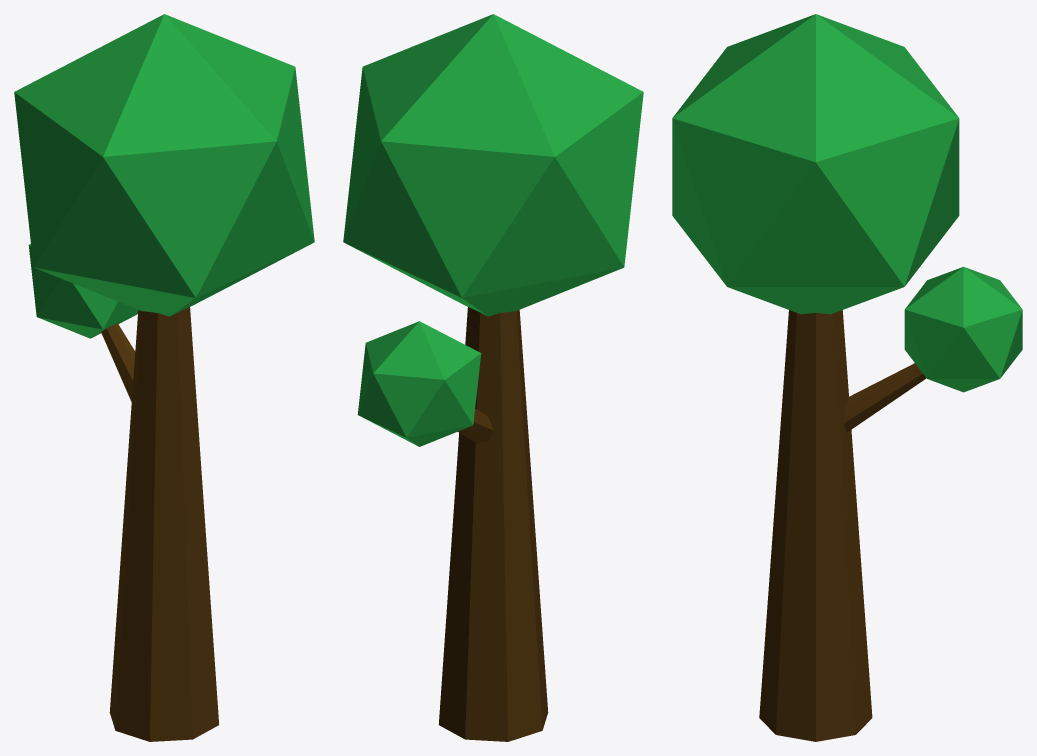
The model's file is tree001.fbx.
The picture shows the model from 3 angles, left to right: view 1: azimuth 30°, elevation 25°; view 2: azimuth 150°, elevation 25°; view 3: azimuth 270°, elevation 25°; orthographic projection.
Visible parts, largest first — view 1: Icosphere; view 2: Icosphere; view 3: Icosphere.
Boxes of the visible parts, x1=… form: Icosphere: x1=14, y1=14, x2=314, y2=741; Icosphere: x1=343, y1=14, x2=643, y2=741; Icosphere: x1=672, y1=14, x2=1022, y2=741.
Size of the model in its own units: 534 by 1373 by 619.
